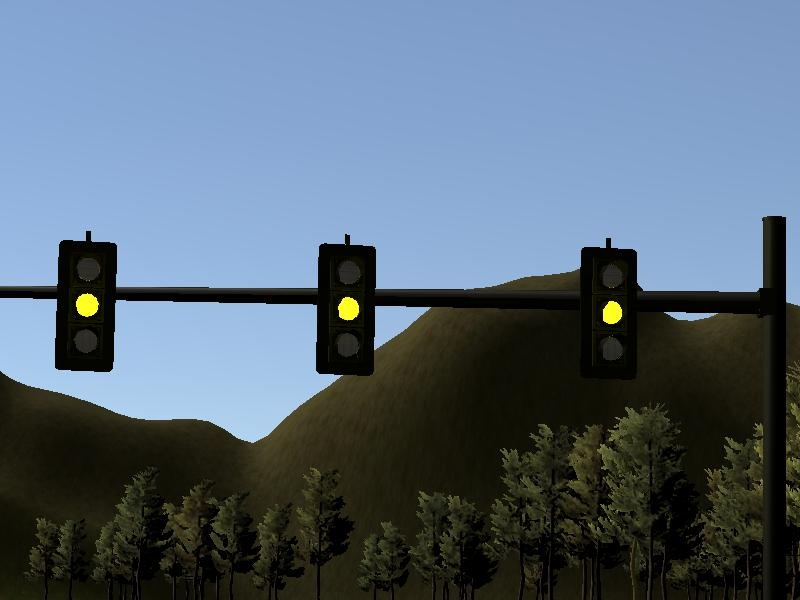yellow: (49, 221, 120, 375), (311, 226, 376, 380), (575, 235, 640, 381)
